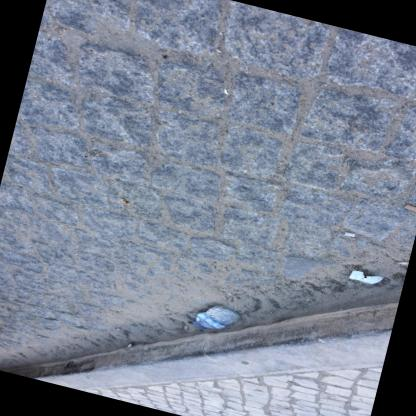Paper: (403, 203, 416, 211), (344, 231, 355, 236), (183, 324, 188, 329), (127, 342, 132, 347)
Plastic: (193, 304, 240, 328), (348, 269, 382, 283)
